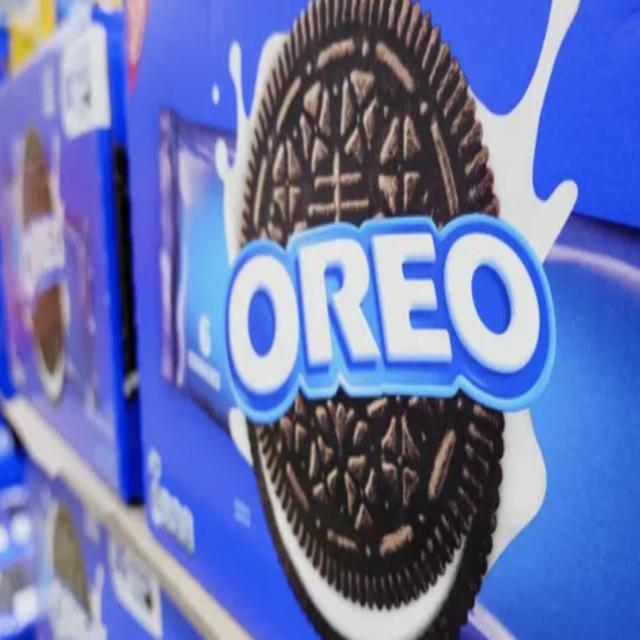supermarket-product: (223, 210, 529, 454)
